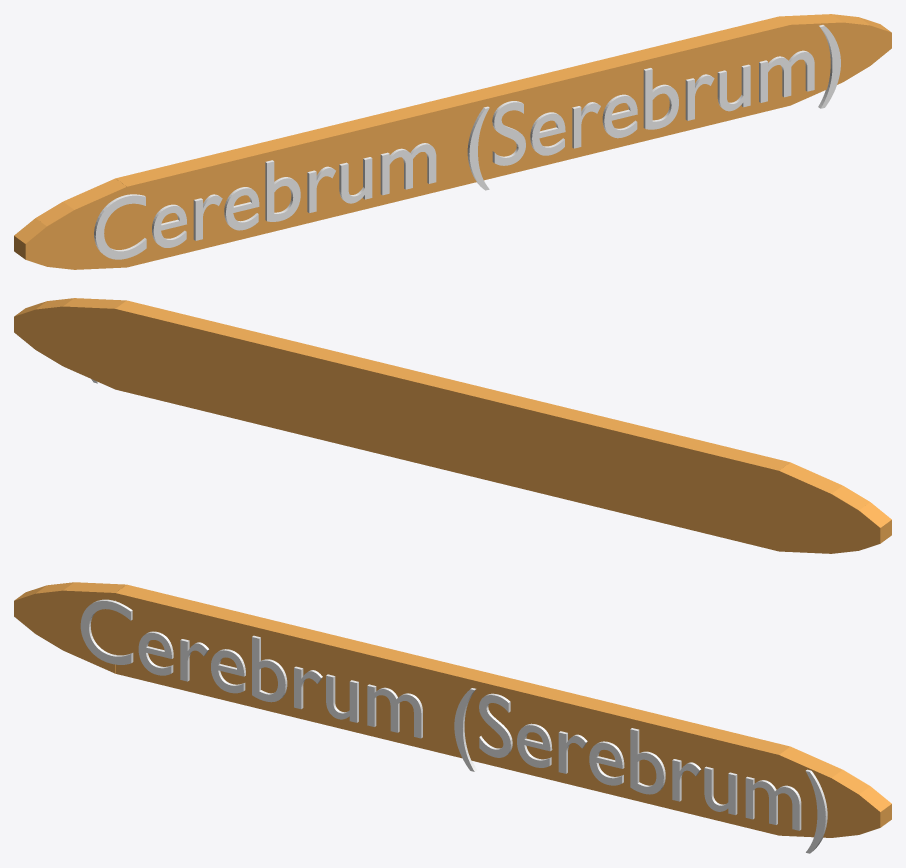
File: txtCerebrum.fbx
3 views of the same model, one above another, from view 1: azimuth 30°, elevation 25°; view 2: azimuth 150°, elevation 25°; view 3: azimuth 330°, elevation 25° (orthographic).
Parts seen in each view (by area): view 1: TagContainer.094, Text.096; view 2: TagContainer.094; view 3: TagContainer.094, Text.096.
Boxes of the visible parts, <box> form: TagContainer.094: <box>14,14,891,269</box>; Text.096: <box>94,25,840,259</box>; TagContainer.094: <box>14,298,891,553</box>; TagContainer.094: <box>14,582,891,837</box>; Text.096: <box>80,599,827,853</box>.
Size of the model in its own units: 464 by 45.81 by 12.37.
